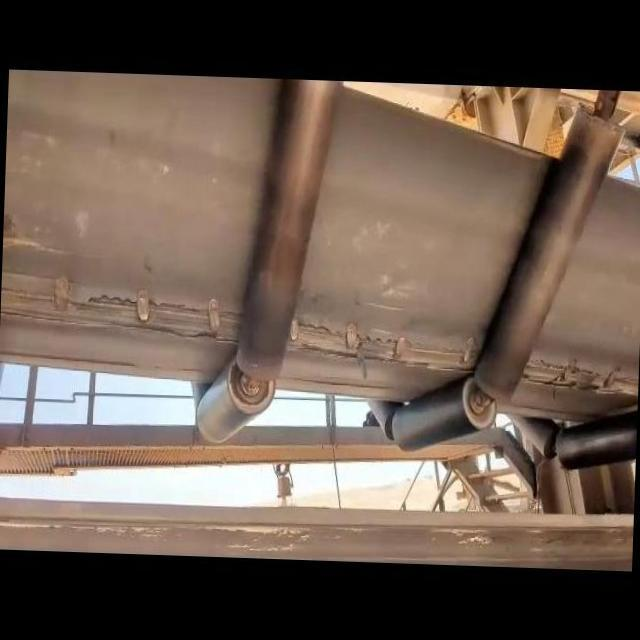Tear: (0, 268, 248, 354), (277, 298, 483, 383), (510, 340, 640, 406)
Wear: (4, 208, 86, 267)
